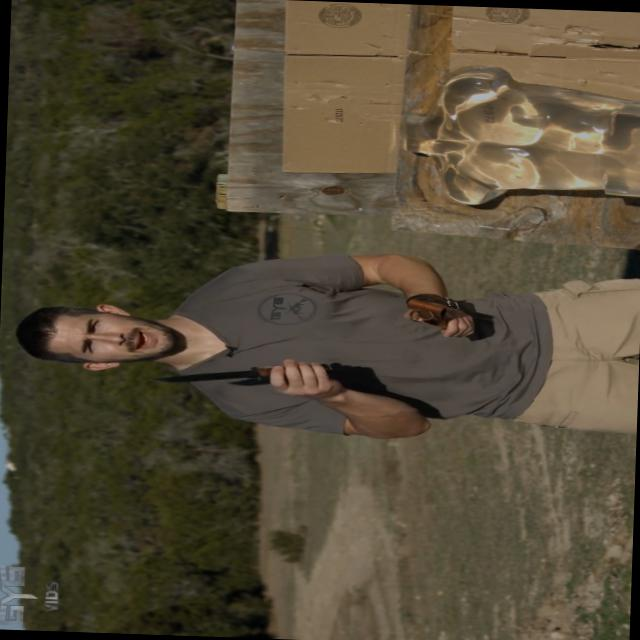knife: (138, 352, 332, 398)
